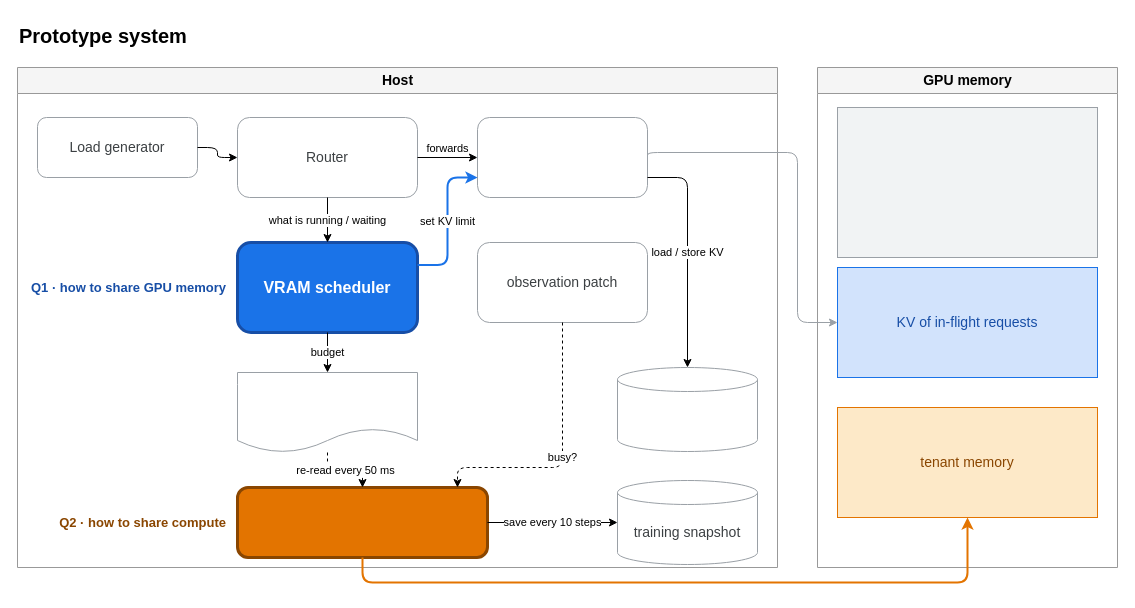
Some shapes in this 1135 by 608 pixel diagram are drawn without their labels. The centre of each missing label's shape, as x and y in pixels:
"engine weights + runtime" goes at [967,182].
"Fine-tune tenant" goes at [362,522].
"KV store in host RAM" goes at [687,409].
"shared budget file" goes at [327,412].
"vLLM + kvcached" goes at [562,157].
